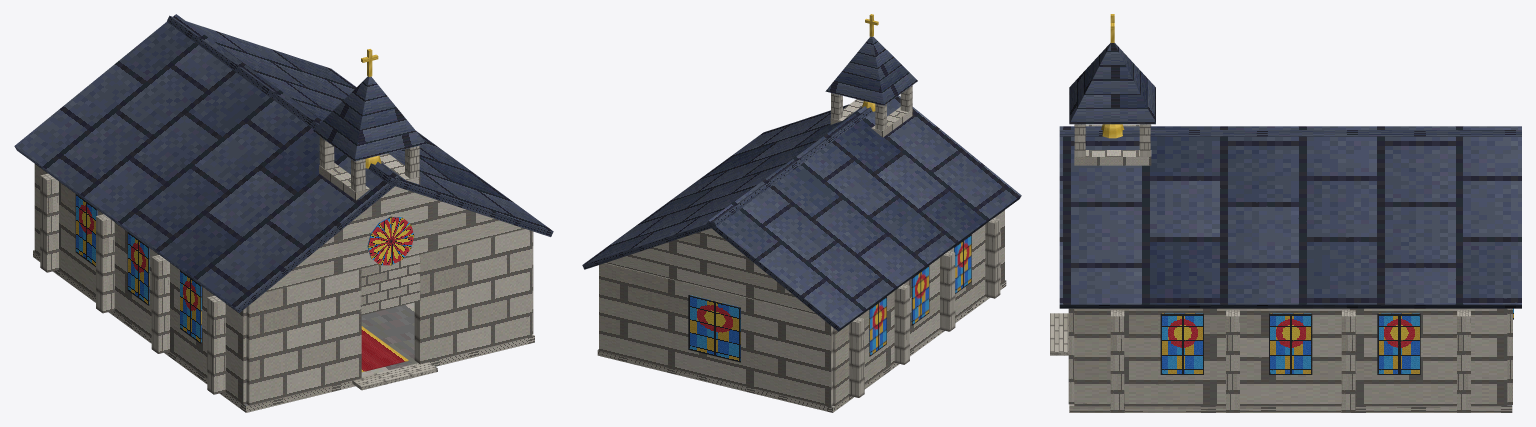
The model's file is igreja_da_vila.glb.
The picture shows the model from 3 angles, left to right: view 1: azimuth 30°, elevation 25°; view 2: azimuth 150°, elevation 25°; view 3: azimuth 270°, elevation 25°; orthographic projection. The views are drawn at different scales.
Visible parts, largest first — view 1: Roof_BellTower, Walls_Gothic_Nave, Floor_Nave_Sanctuary; view 2: Roof_BellTower, Walls_Gothic_Nave, Floor_Nave_Sanctuary; view 3: Roof_BellTower, Walls_Gothic_Nave, Floor_Nave_Sanctuary.
Boxes of the visible parts, <box> form: Roof_BellTower: <box>14,14,553,313</box>; Walls_Gothic_Nave: <box>34,164,533,405</box>; Floor_Nave_Sanctuary: <box>33,250,534,412</box>; Roof_BellTower: <box>582,14,1021,331</box>; Walls_Gothic_Nave: <box>599,210,1004,407</box>; Floor_Nave_Sanctuary: <box>597,280,1006,412</box>; Roof_BellTower: <box>1059,14,1521,308</box>; Walls_Gothic_Nave: <box>1068,308,1513,412</box>; Floor_Nave_Sanctuary: <box>1050,313,1512,412</box>.
Bounding box in the file's own units: 15.81 × 14.89 × 19.6.
1 material, 1 textured.
